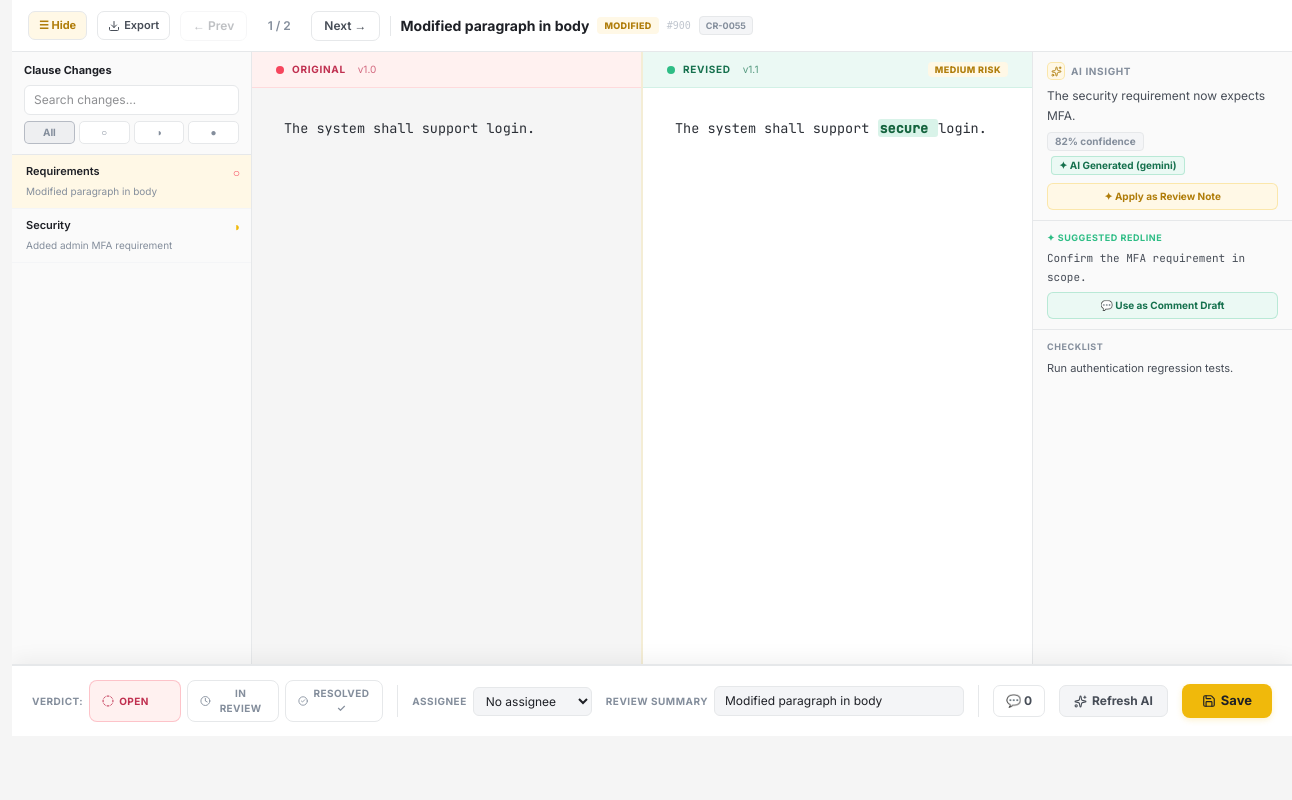
Test case: ReviewPanelPage › renders generated ai draft metadata and allows regenerate
The image size is (1292, 800).
Expected: the text "medium risk" is shown, [928,62,1008,77]
Expected: the text "82% confidence" is shown, [1047,132,1144,151]
Click the button "Refresh AI" at (1114, 701), box [1059,685,1168,717]
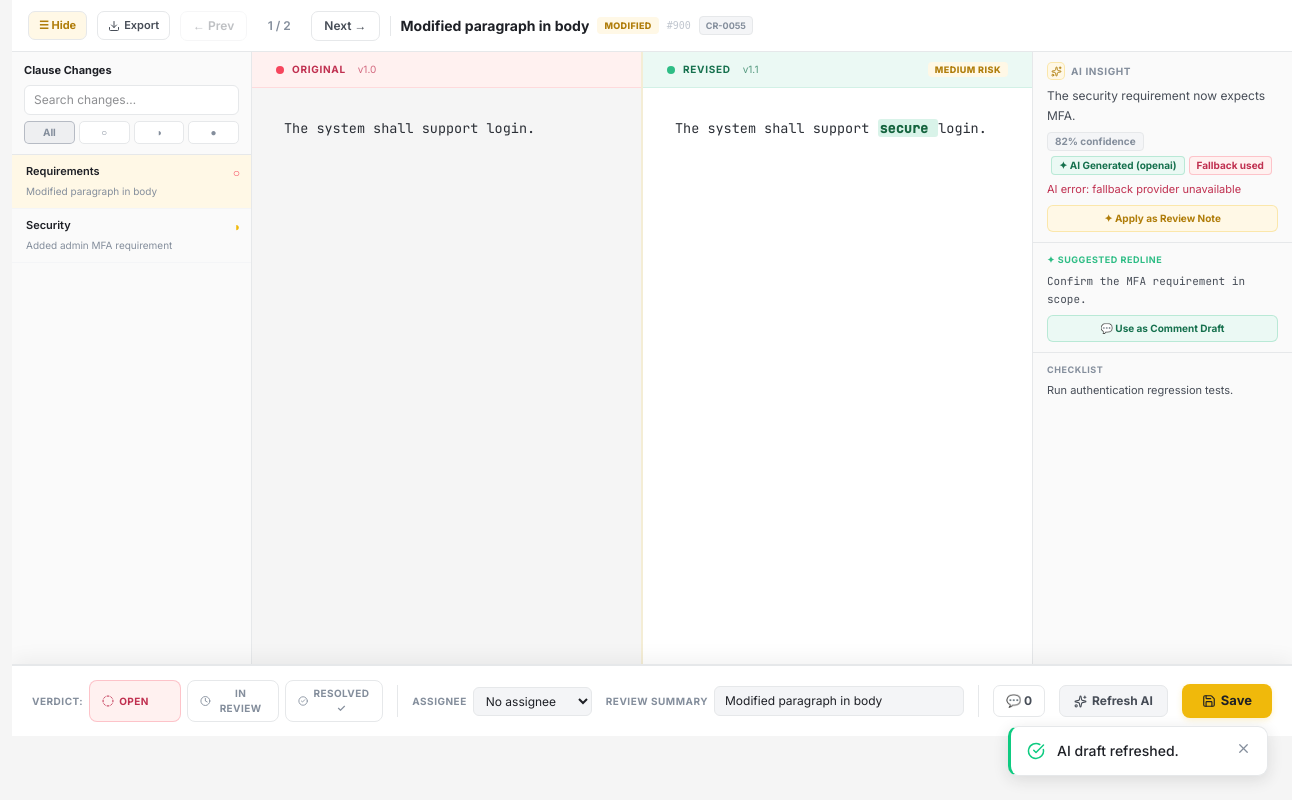
Result: the text "✦ AI Generated (openai)" is shown at [1051,156,1185,175]
Result: the text "Fallback used" is shown at [1189,156,1272,175]
Result: the text "AI error: fallback provider unavailable" is shown at [1047,182,1241,196]
